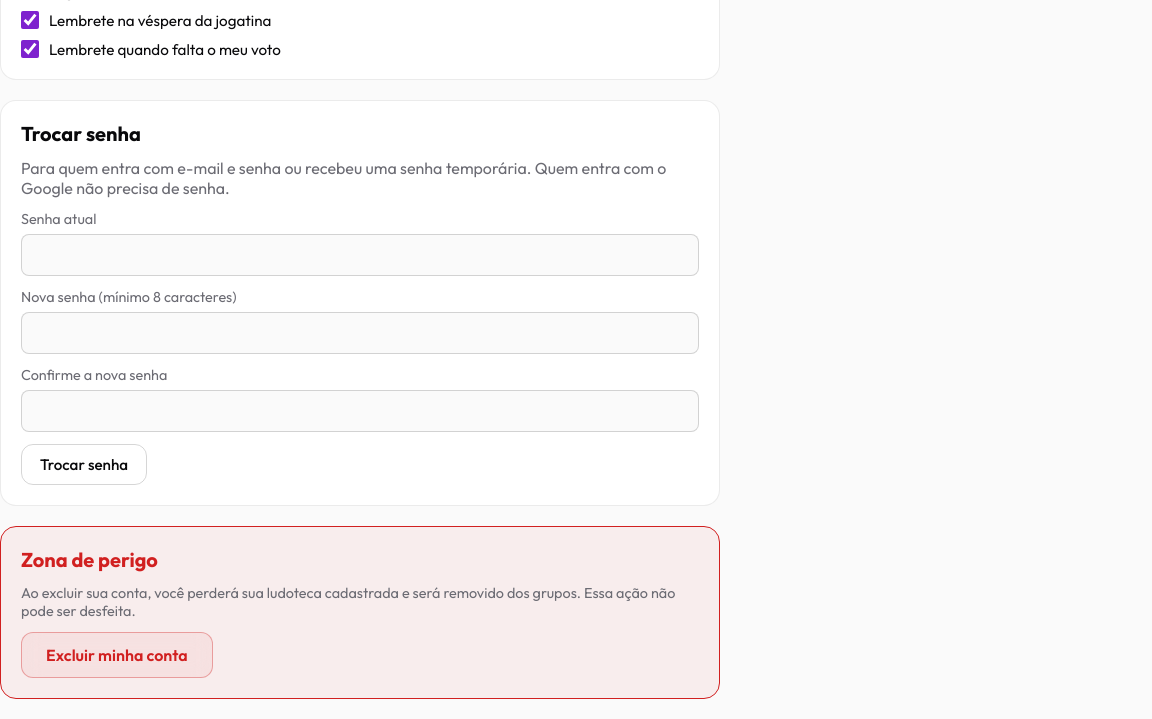
Conta › cancelar a exclusão fecha a janela sem excluir
(page scrolled)
Click the button "Excluir minha conta". click: (117,655)
box: [21,632,213,678]
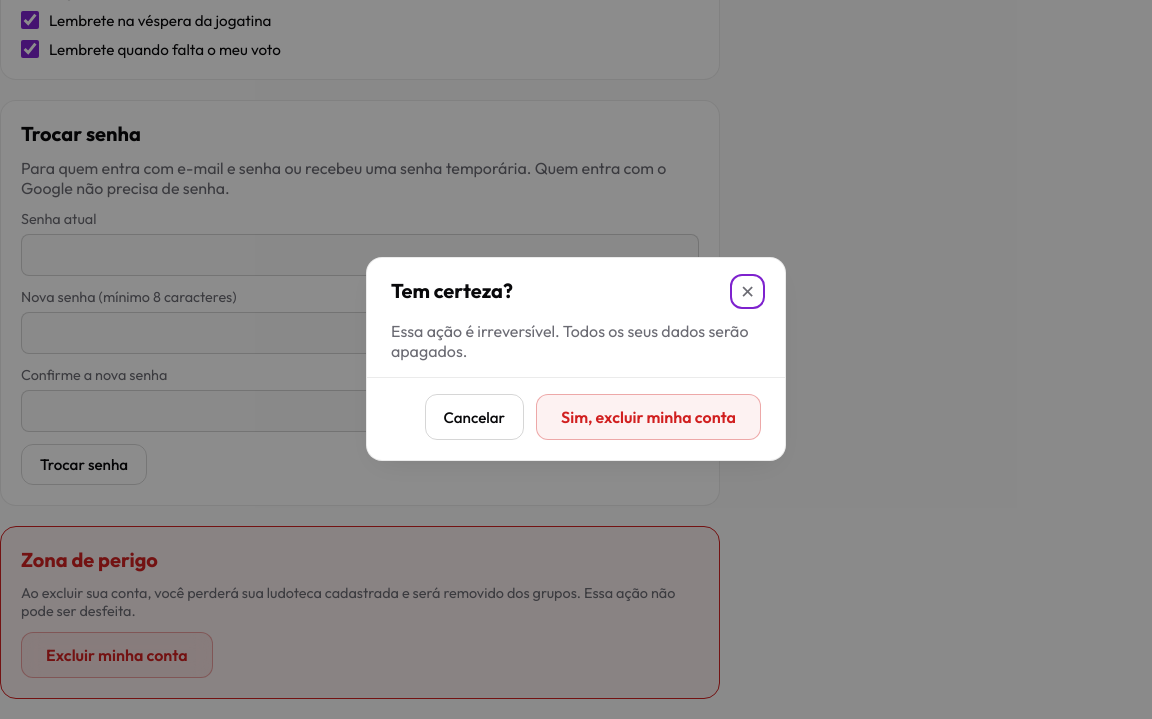
Click the button "Cancelar". click: (474,417)
box: [425,394,524,440]
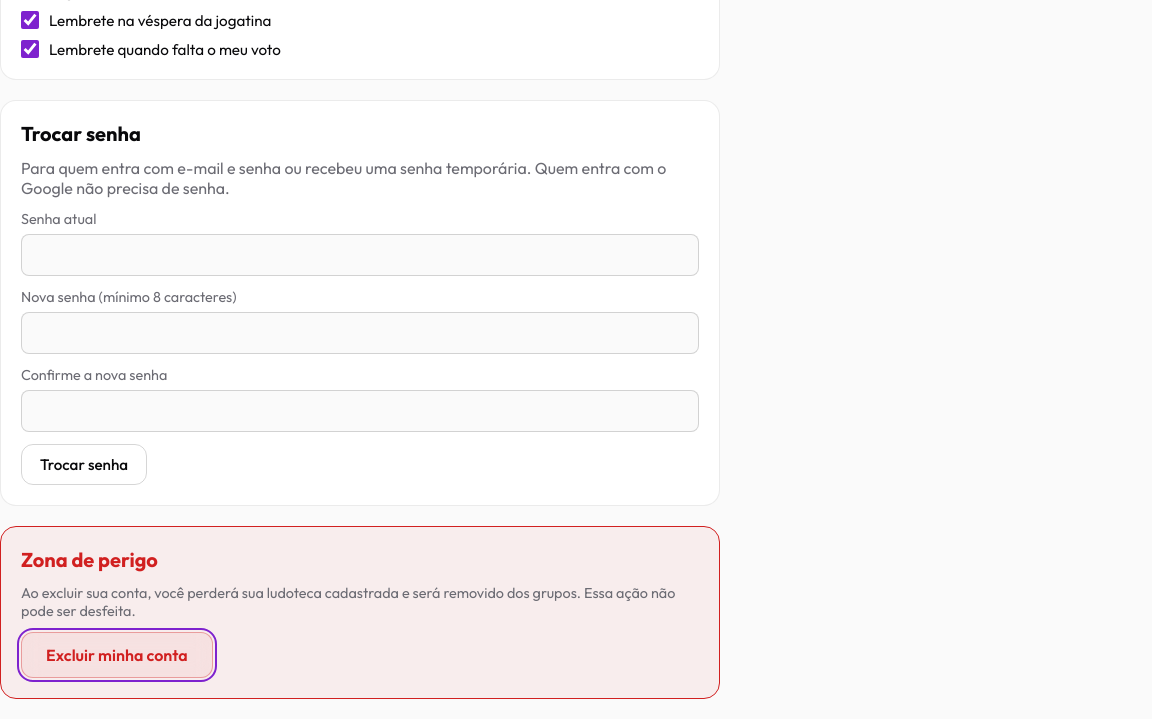
Expected: the dialog is gone
